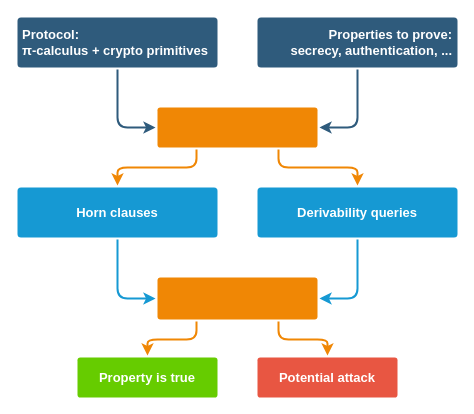
The diagram is 474 pixels wide and 414 high, and some of its shapes have lost their labels. The box of each missing label's shape, as (x1, y1, x2, y2) in pixels:
Automatic translation: (157, 107, 317, 147)
Resolution: (157, 277, 317, 319)
